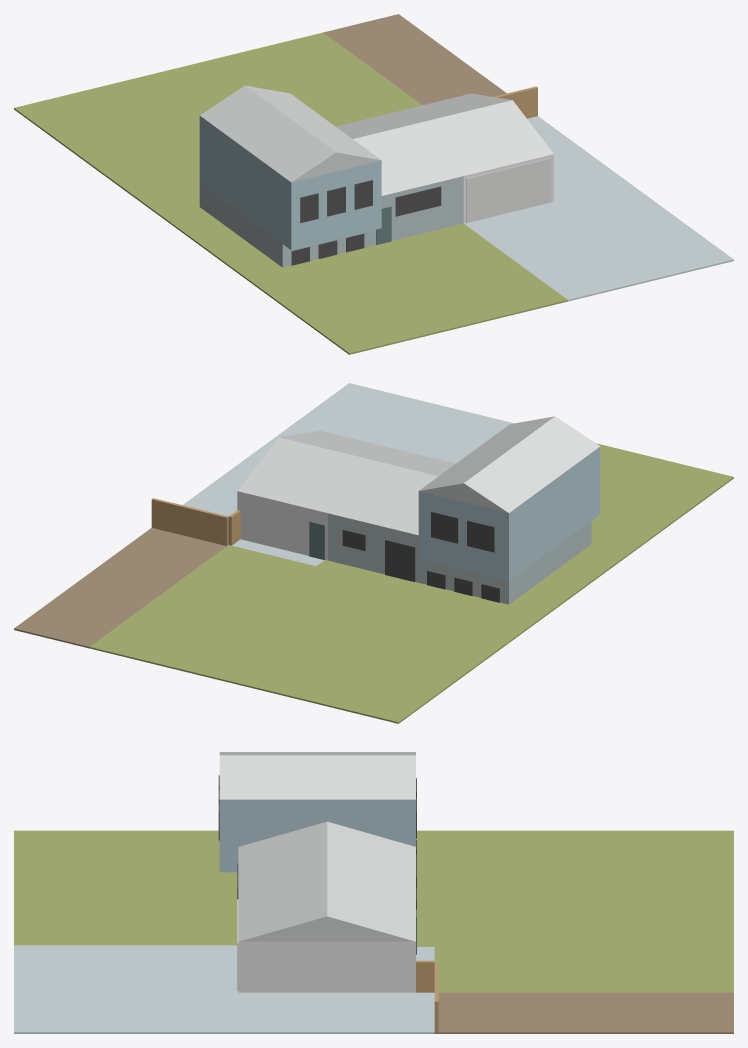
Rendered from house.glb.
The picture shows the model from 3 angles, top to bottom: view 1: azimuth 30°, elevation 25°; view 2: azimuth 150°, elevation 25°; view 3: azimuth 270°, elevation 25°; orthographic projection. The views are drawn at different scales.
Size of the model in its own units: 25500 by 8500 by 38500.
